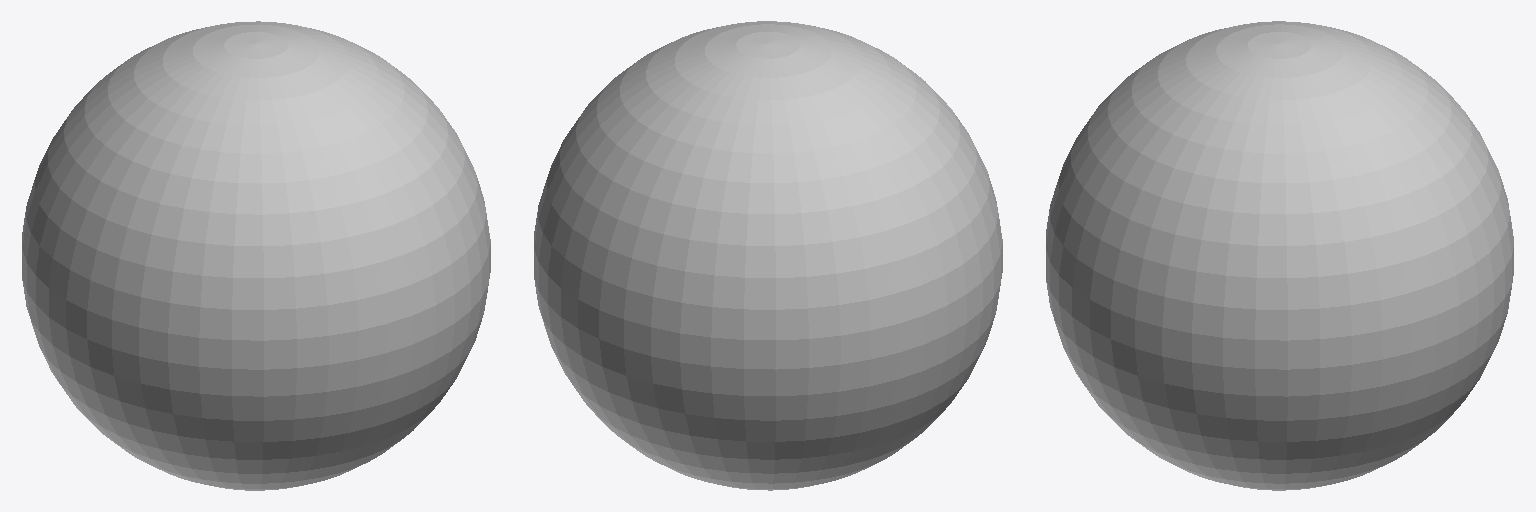
File: blackhole.obj
3 renders of one model, left to right at view 1: azimuth 30°, elevation 25°; view 2: azimuth 150°, elevation 25°; view 3: azimuth 270°, elevation 25°, orthographic.
Parts seen in each view (by area): view 1: sphere; view 2: sphere; view 3: sphere.
Part boxes in pixels (left/top/right/bottom): sphere: left=22, top=21, right=490, bottom=490; sphere: left=534, top=21, right=1002, bottom=490; sphere: left=1046, top=21, right=1513, bottom=490.
Size of the model in its own units: 9.37 by 9.38 by 9.36.